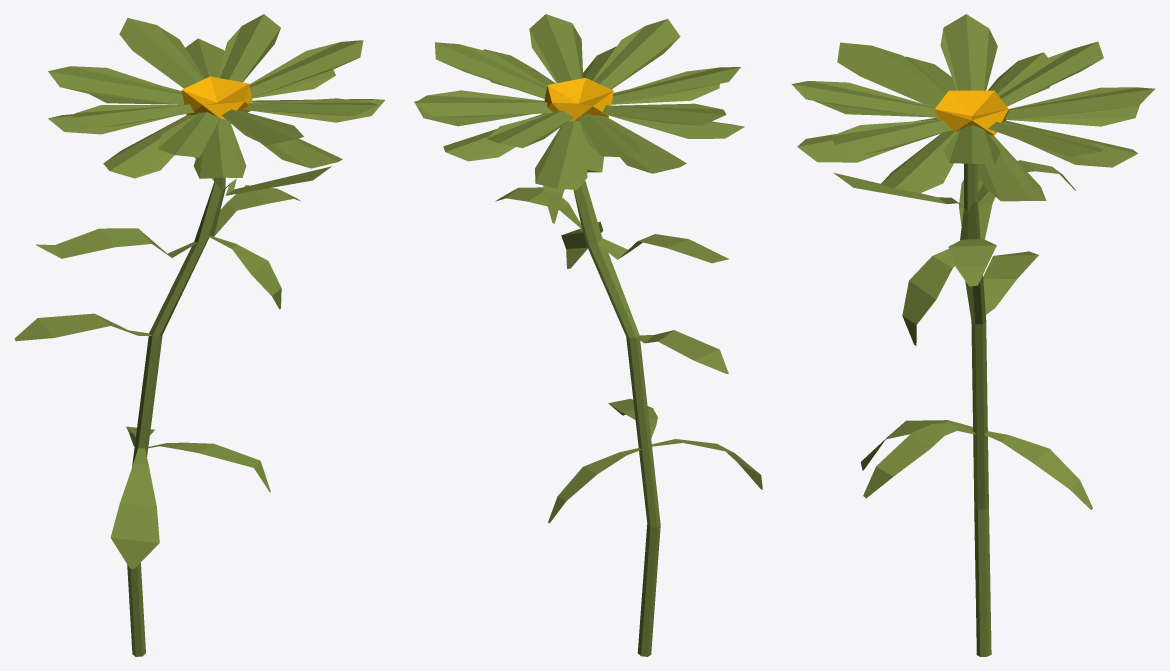
Rendered from Margarita_flower.glb.
The picture shows the model from 3 angles, left to right: view 1: azimuth 30°, elevation 25°; view 2: azimuth 150°, elevation 25°; view 3: azimuth 270°, elevation 25°; orthographic projection. The views are drawn at different scales.
Visible parts, largest first — view 1: margarita flower_white_0, margarita flower_green_0, margarita flower_yellow_0; view 2: margarita flower_white_0, margarita flower_green_0, margarita flower_yellow_0; view 3: margarita flower_white_0, margarita flower_green_0, margarita flower_yellow_0.
Part boxes in pixels (<box>): margarita flower_white_0: <box>48,14,384,178</box>; margarita flower_green_0: <box>14,157,331,656</box>; margarita flower_yellow_0: <box>182,76,252,119</box>; margarita flower_white_0: <box>414,14,744,189</box>; margarita flower_green_0: <box>495,89,762,656</box>; margarita flower_yellow_0: <box>544,78,613,121</box>; margarita flower_white_0: <box>791,14,1155,201</box>; margarita flower_green_0: <box>833,160,1092,656</box>; margarita flower_yellow_0: <box>934,90,1008,135</box>.
Size of the model in its own units: 1.06 by 1.76 by 0.9597.
